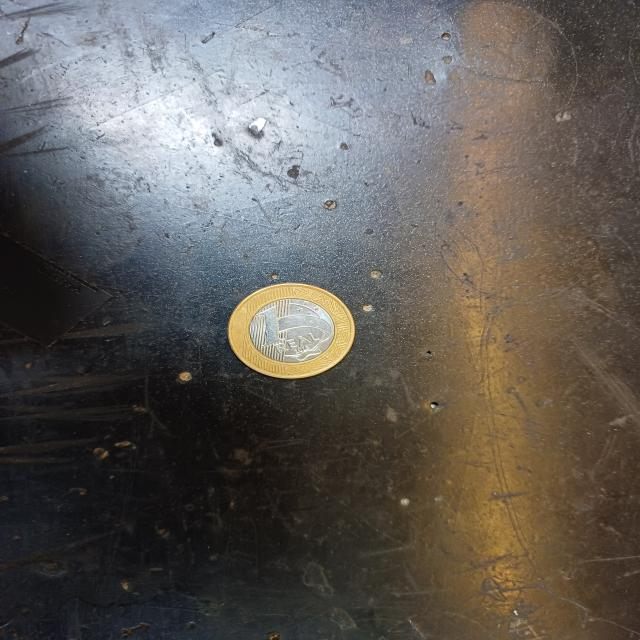1 real: (229, 279, 357, 382)
